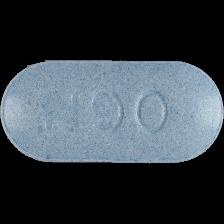0093-8943: (0, 0, 224, 224)
